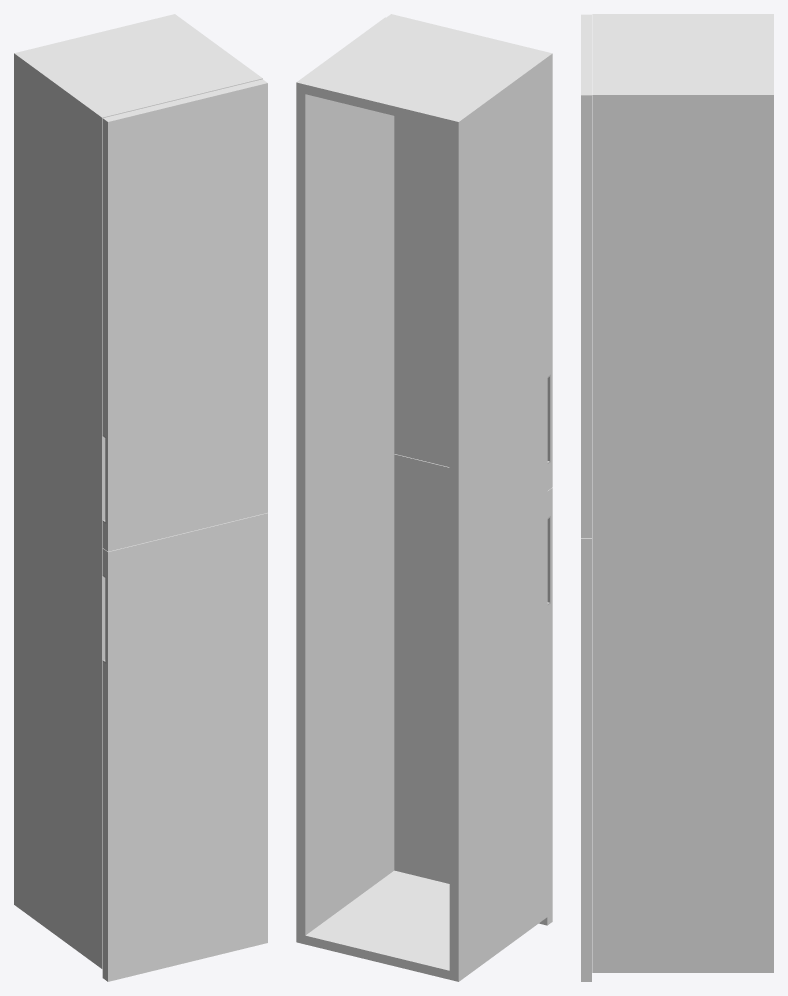
Rendered from AEC_48037.glb.
The picture shows the model from 3 angles, left to right: view 1: azimuth 30°, elevation 25°; view 2: azimuth 150°, elevation 25°; view 3: azimuth 270°, elevation 25°; orthographic projection. The views are drawn at different scales.
Parts seen in each view (by area): view 1: 0; view 2: 0; view 3: 0.
Boxes of the visible parts, left/top/right/bottom form: 0: left=14, top=14, right=267, bottom=981; 0: left=296, top=14, right=552, bottom=981; 0: left=581, top=14, right=773, bottom=981.
Bounding box in the file's own units: 0.3199 × 1.63 × 0.3219.
Materials: 1 (1 with a texture image).
